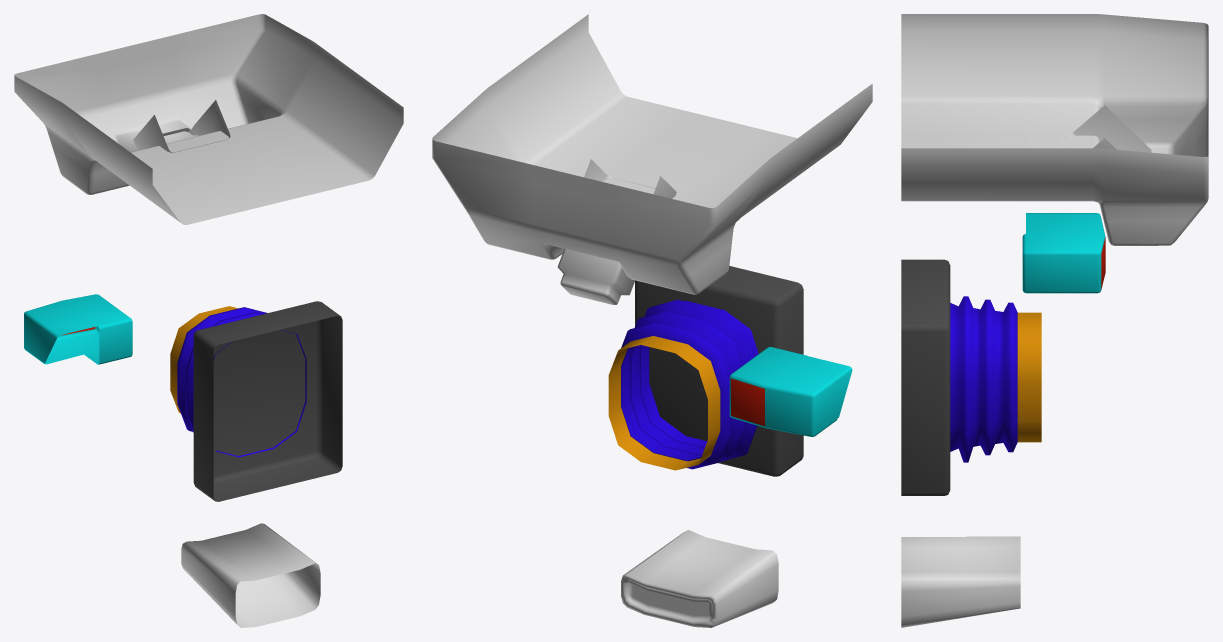
File: Backhoe_CabinInterior_01.fbx
The picture shows the model from 3 angles, left to right: view 1: azimuth 30°, elevation 25°; view 2: azimuth 150°, elevation 25°; view 3: azimuth 270°, elevation 25°; orthographic projection. The views are drawn at different scales.
Parts seen in each view (by area): view 1: Backhoe_CabinInterior_01_low; view 2: Backhoe_CabinInterior_01_low; view 3: Backhoe_CabinInterior_01_low.
Part boxes in pixels (x1,y1,x2,y2): Backhoe_CabinInterior_01_low: (14,14,403,627); Backhoe_CabinInterior_01_low: (432,14,872,627); Backhoe_CabinInterior_01_low: (901,14,1208,627).
Bounding box in the file's own units: 1.15 × 1.83 × 0.96.
